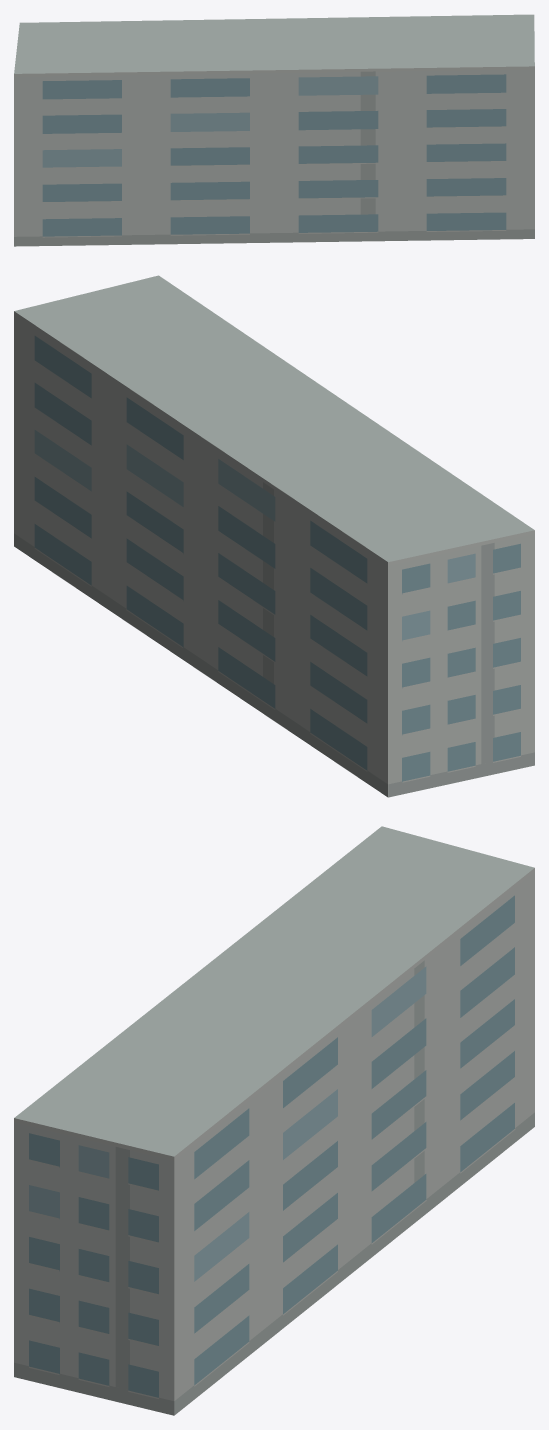
Rendered from survey-upis-32835748.glb.
The picture shows the model from 3 angles, top to bottom: view 1: azimuth 30°, elevation 25°; view 2: azimuth 150°, elevation 25°; view 3: azimuth 270°, elevation 25°; orthographic projection. The views are drawn at different scales.
Visible parts, largest first — view 1: survey-upis-32835748.tmp; view 2: survey-upis-32835748.tmp; view 3: survey-upis-32835748.tmp.
Boxes of the visible parts, bbox=[...] form: survey-upis-32835748.tmp: bbox=[14, 14, 534, 246]; survey-upis-32835748.tmp: bbox=[14, 275, 534, 797]; survey-upis-32835748.tmp: bbox=[14, 826, 534, 1415].
Bounding box in the file's own units: 41.73 × 15.25 × 27.8.
